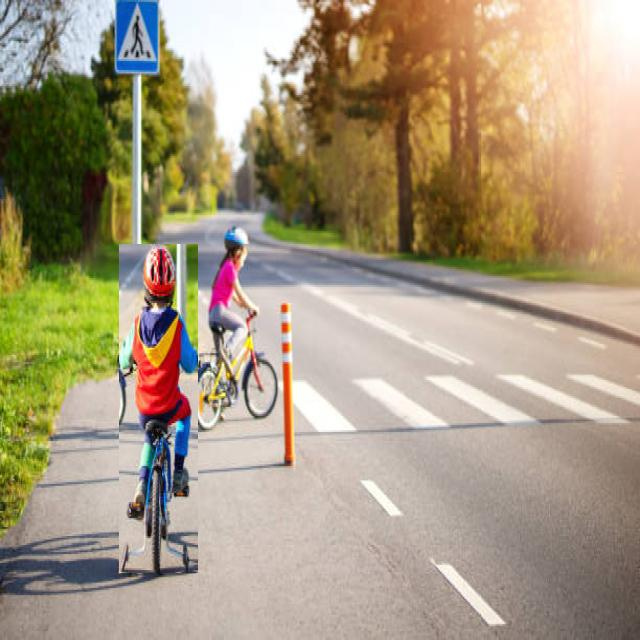bicycle: (120, 245, 198, 573), (192, 227, 278, 429)
